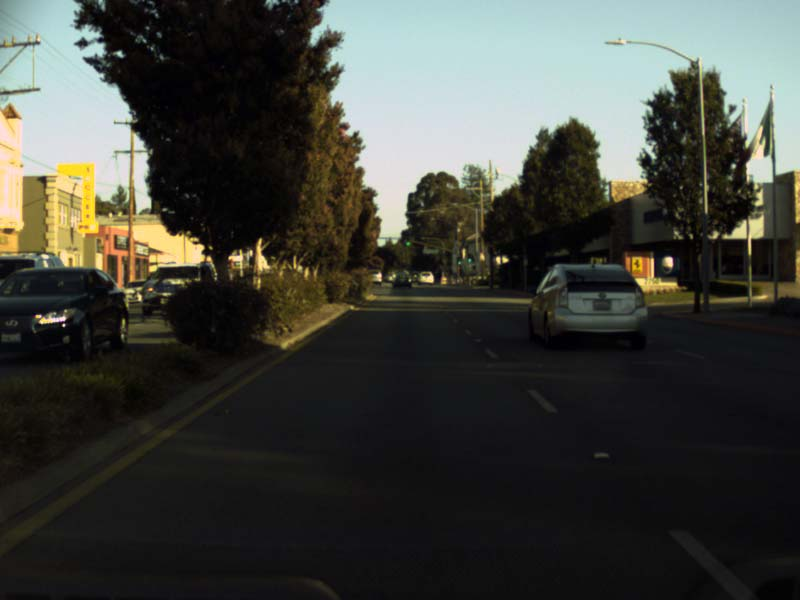Green: (405, 234, 410, 245), (457, 256, 462, 265), (468, 254, 472, 263)
